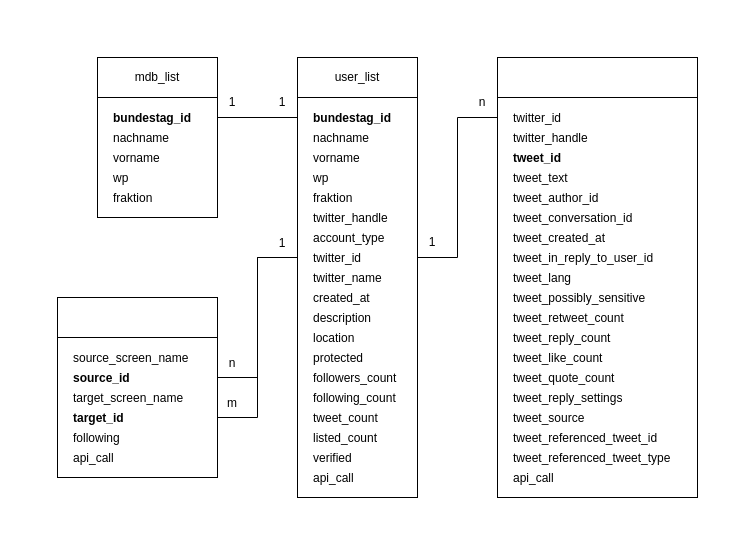
Some shapes in this 754 by 554 pixel diagram are drawn without their labels. Here are the shapes that lost their labels. From the top down, the centre of each, then its label:
At point 597,77: "tweet_list".
At point 137,317: "user_friendships".
